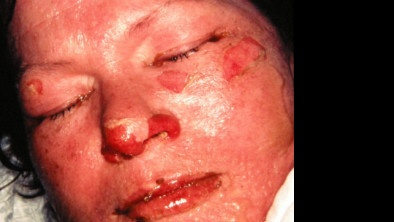SJS-TEN: (88, 104, 187, 176), (101, 168, 229, 222), (198, 21, 275, 94), (148, 56, 203, 102), (12, 68, 58, 119)
